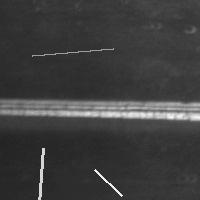scratches: (1, 90, 199, 124), (27, 44, 118, 61), (89, 164, 126, 200), (33, 143, 48, 200)
